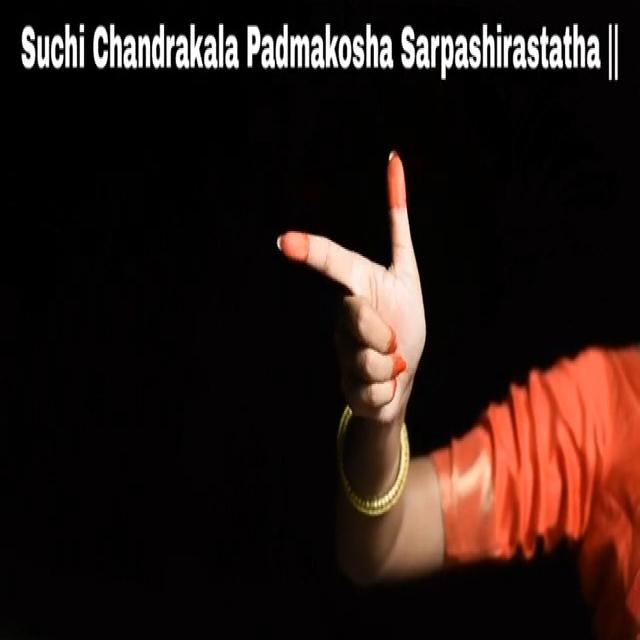Chandrakala: (258, 122, 458, 452)
bangle: (327, 432, 427, 519)
text: (8, 13, 627, 99)
